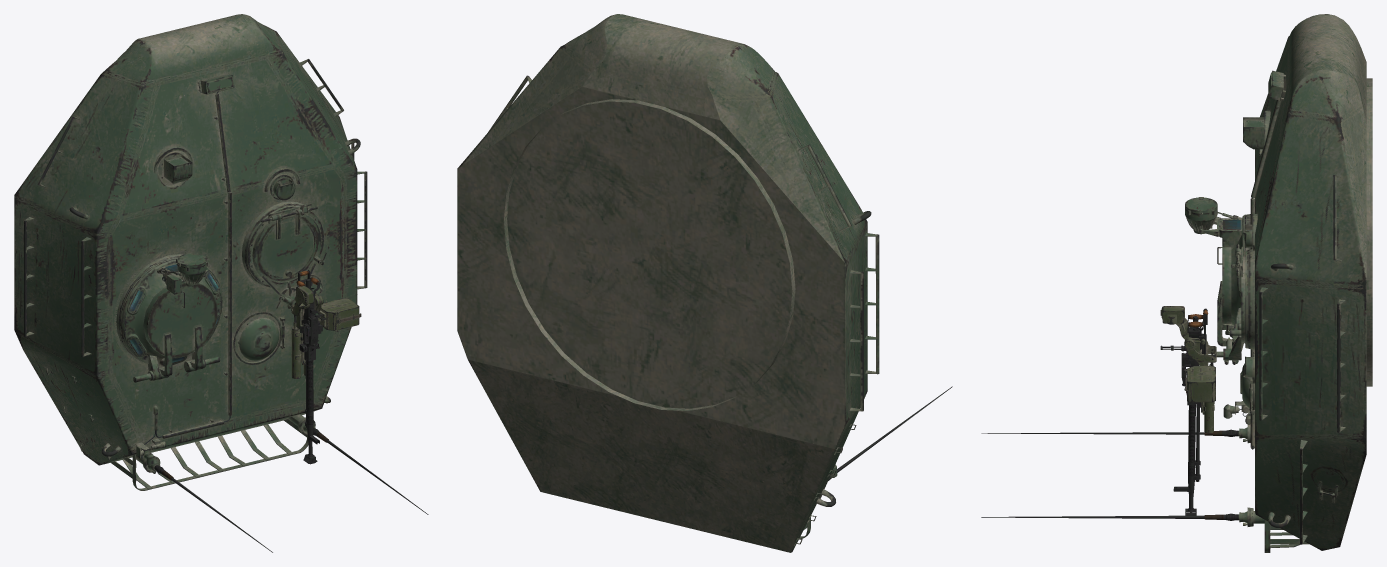
Rendered from Turret_02.glb.
The picture shows the model from 3 angles, left to right: view 1: azimuth 30°, elevation 25°; view 2: azimuth 150°, elevation 25°; view 3: azimuth 270°, elevation 25°; orthographic projection. The views are drawn at different scales.
Visible parts, largest first — view 1: set_0_group_0; view 2: set_0_group_0; view 3: set_0_group_0.
Boxes of the visible parts, x1,y1,x2,y2 form: set_0_group_0: [14, 14, 428, 552]; set_0_group_0: [457, 14, 952, 552]; set_0_group_0: [981, 14, 1372, 552].
Bounding box in the file's own units: 3.02 × 3.7 × 2.8.
Materials: 1 (1 with a texture image).
